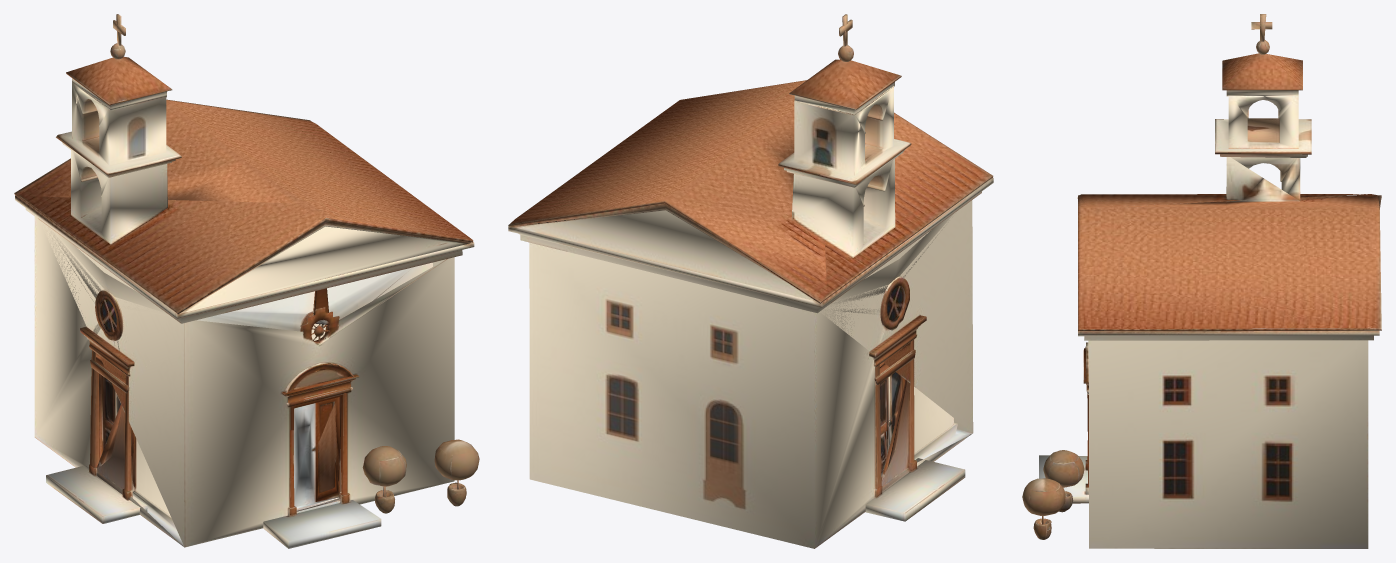
The model's file is church.glb.
3 views of the same model, side by side, from view 1: azimuth 30°, elevation 25°; view 2: azimuth 150°, elevation 25°; view 3: azimuth 270°, elevation 25° (orthographic). The views are drawn at different scales.
Bounding box in the file's own units: 0.6997 × 0.9536 × 0.73.
Materials: 1 (1 with a texture image).
